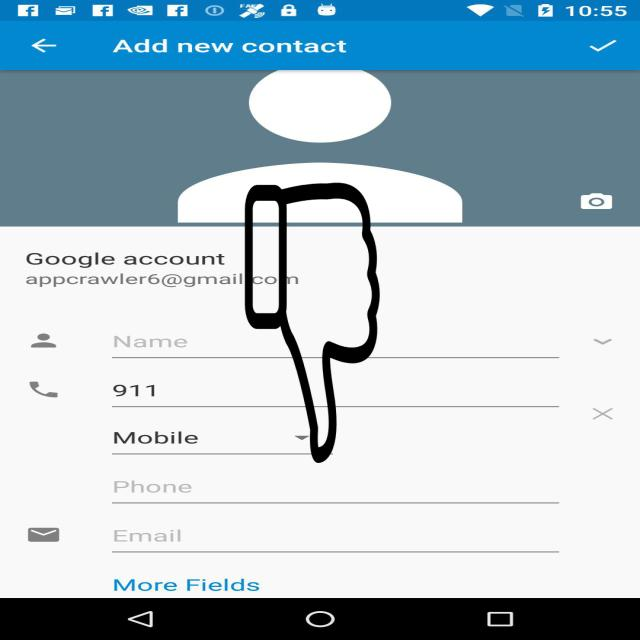obstruction: (243, 183, 382, 463)
